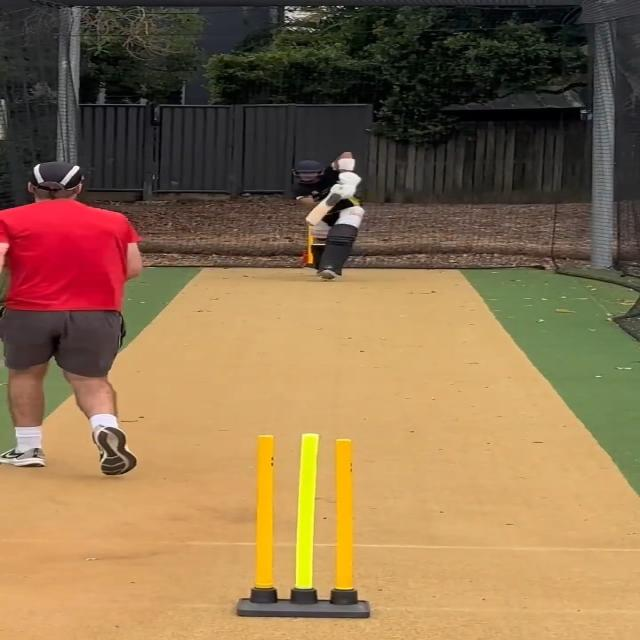stump: (237, 431, 372, 618)
